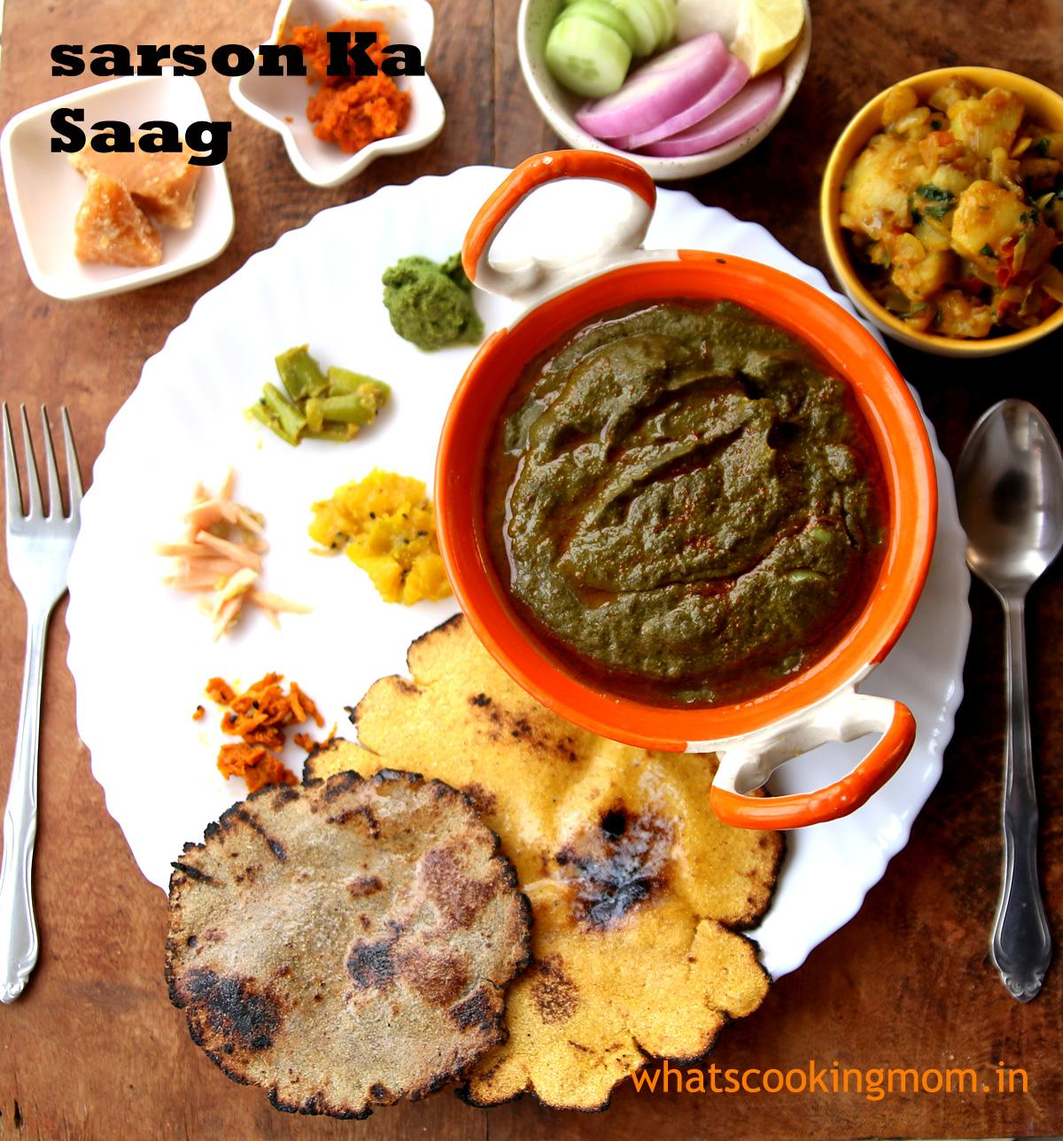saag: (492, 302, 889, 701)
